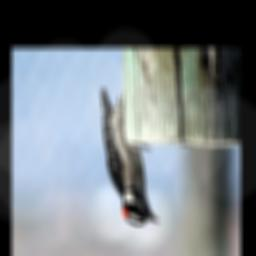Woodpecker: (99, 88, 160, 226)
